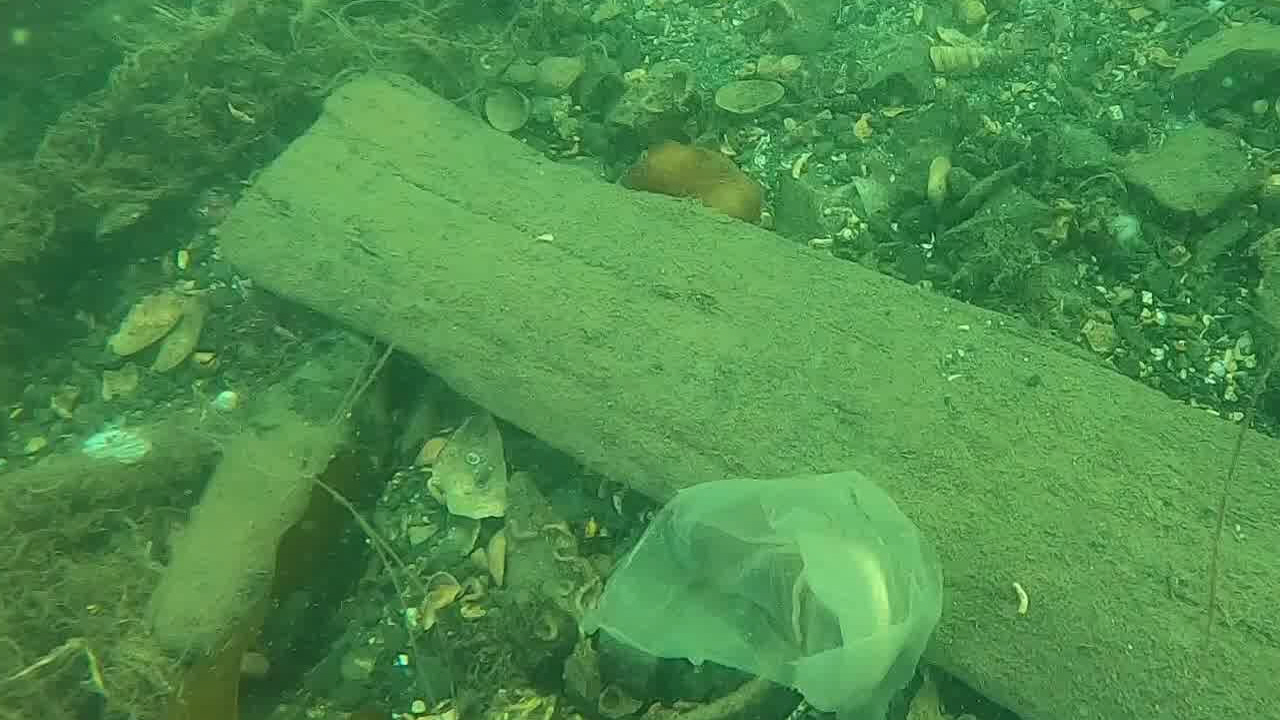wood: (216, 65, 1280, 720)
